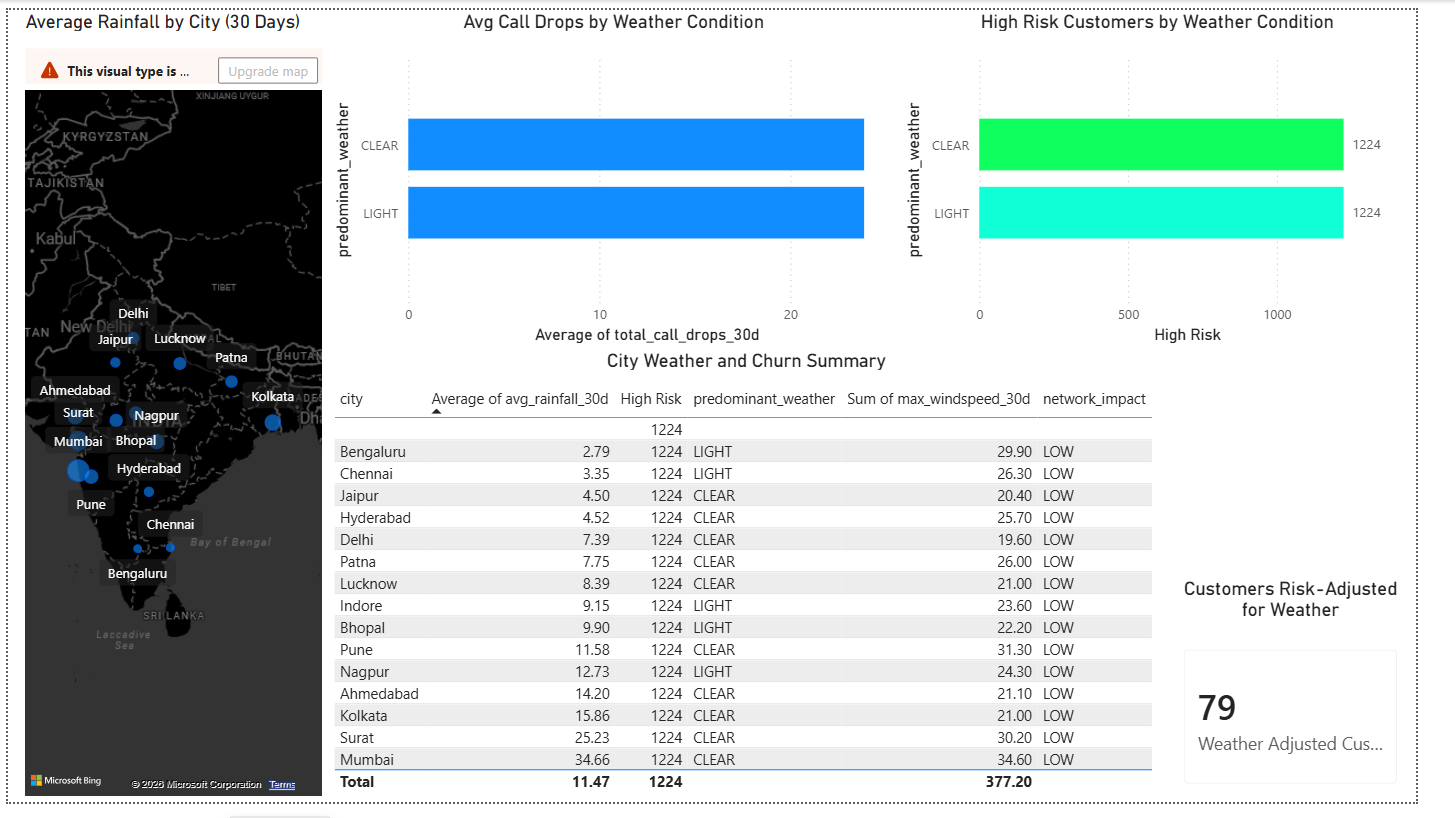

This screenshot's page, from the dashboard's own definition file:
{"tool":"powerbi","page":{"name":"Weather Impact","canvas":[1280,720],"ordinal":2},"visuals":[{"type":"map","title":"Average Rainfall by City (30 Days)","fields":{"Category":["dim_weather.city"],"Size":["Sum(dim_weather.avg_rainfall_30d)"]},"box":[10.7,0,280,719.9],"z":0},{"type":"cardVisual","title":"Customers Risk-Adjusted for Weather","fields":{"Data":["fact_churn.Weather Adjusted Customers"]},"box":[1051.8,515.4,228.2,205.4],"z":1000},{"type":"tableEx","title":"City Weather and Churn Summary","fields":{"Values":["dim_weather.city","Avg(dim_weather.avg_rainfall_30d)","fact_churn.High Risk","dim_weather.predominant_weather","Sum(dim_weather.max_windspeed_30d)","dim_weather.network_impact"]},"box":[291,308.1,760.8,412.7],"z":2000},{"type":"clusteredBarChart","title":"Avg Call Drops by Weather Condition","fields":{"Category":["dim_weather.predominant_weather"],"Y":["Avg(dim_usage.total_call_drops_30d)"]},"box":[291,0,519.2,308.1],"z":3000},{"type":"clusteredBarChart","title":"High Risk Customers by Weather Condition","fields":{"Category":["dim_weather.predominant_weather"],"Y":["fact_churn.High Risk"]},"box":[810.2,0,469.8,308.1],"z":4000}]}

Visuals, with their boxes in screenshot pixels (x1, y1, x2, y2), scaled from the page's 1280x720 canvas onto the 1455x818 screenshot:
"Average Rainfall by City (30 Days)" map: region(12, 0, 330, 817)
"Customers Risk-Adjusted for Weather" cardVisual: region(1196, 586, 1454, 817)
"City Weather and Churn Summary" tableEx: region(331, 350, 1196, 817)
"Avg Call Drops by Weather Condition" clusteredBarChart: region(331, 0, 921, 350)
"High Risk Customers by Weather Condition" clusteredBarChart: region(921, 0, 1454, 350)
